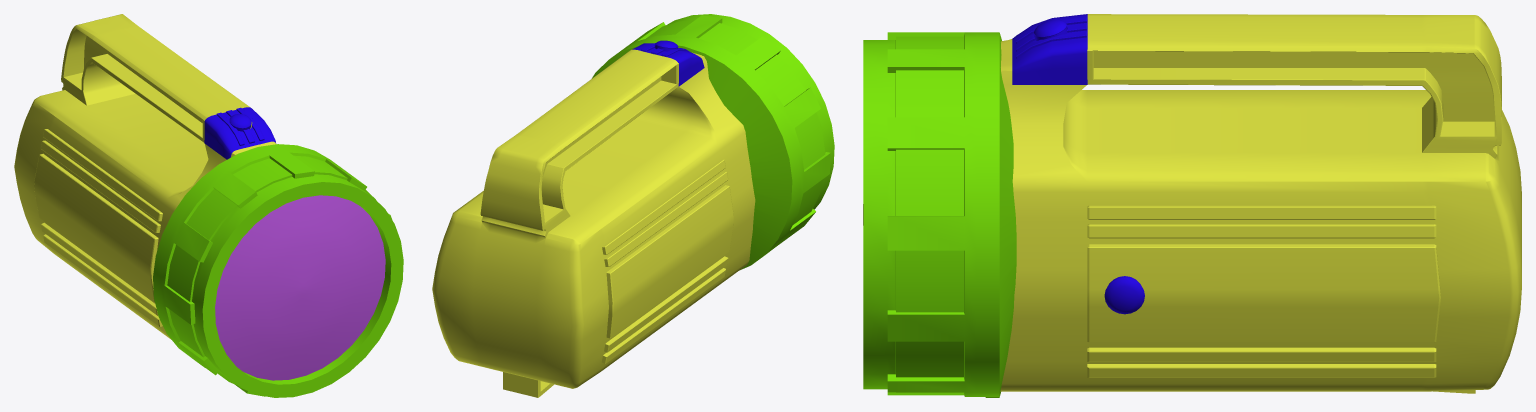
File: fonarik_low.fbx
The picture shows the model from 3 angles, left to right: view 1: azimuth 30°, elevation 25°; view 2: azimuth 150°, elevation 25°; view 3: azimuth 270°, elevation 25°; orthographic projection. The views are drawn at different scales.
Parts seen in each view (by area): view 1: korpus_low, pered_low, steklo_low, knopka_low.001; view 2: korpus_low, pered_low, knopka_low.001; view 3: korpus_low, pered_low, knopka_low.001.
Part boxes in pixels (bbox=[...]): korpus_low: bbox=[14, 14, 276, 339]; pered_low: bbox=[153, 144, 403, 397]; steklo_low: bbox=[215, 195, 385, 380]; knopka_low.001: bbox=[204, 107, 275, 159]; korpus_low: bbox=[432, 49, 755, 397]; pered_low: bbox=[592, 14, 834, 270]; knopka_low.001: bbox=[632, 40, 704, 86]; korpus_low: bbox=[1000, 14, 1521, 393]; pered_low: bbox=[863, 32, 1016, 397]; knopka_low.001: bbox=[1012, 14, 1144, 314].
Bounding box in the file's own units: 24.42 × 26.5 × 44.13.
